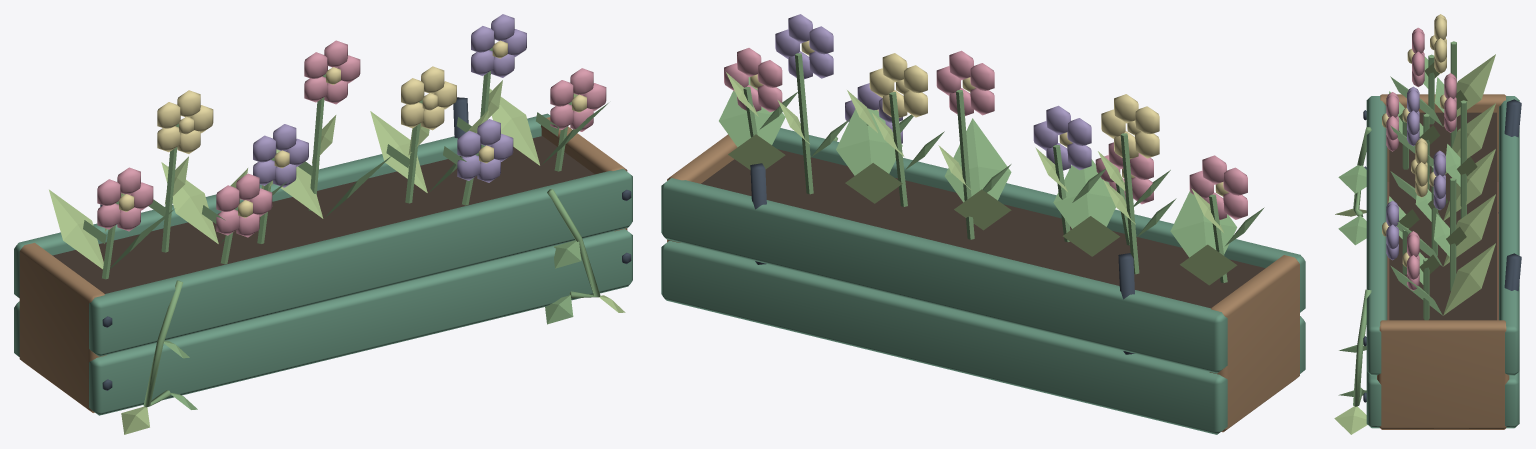
File: window_flowers.glb
3 views of the same model, side by side, from view 1: azimuth 30°, elevation 25°; view 2: azimuth 150°, elevation 25°; view 3: azimuth 270°, elevation 25° (orthographic). The views are drawn at different scales.
Parts seen in each view (by area): view 1: Painted front plank.001, Painted front plank, Garden soil, Planter end panel, Painted front plank.003, Full planter foliage.001, Planter end panel.001, Full planter foliage.003, Full planter foliage.009, Full planter foliage.007, Trailing ivy stem, Trailing ivy stem.001 (+7 smaller); view 2: Painted front plank.003, Painted front plank.002, Garden soil, Planter end panel, Painted front plank.001, Full planter foliage.002, Full planter foliage.004, Full planter foliage.006, Full planter foliage, Full planter foliage.008, Planter end panel.001, Full planter foliage.001 (+10 smaller); view 3: Planter end panel.001, Garden soil, Painted front plank.001, Painted front plank.003, Full planter foliage.009, Full planter foliage.007, Planter end panel, Full planter foliage.001, Full planter foliage.003, Full planter foliage.005, Painted front plank, Trailing ivy stem.001 (+48 smaller).
Part boxes in pixels (box(x1,y1,x2,y2)): Painted front plank.001: box(89, 169, 632, 356); Painted front plank: box(89, 229, 632, 415); Garden soil: box(52, 136, 594, 293); Planter end panel: box(19, 242, 106, 412); Painted front plank.003: box(14, 113, 550, 298); Full planter foliage.001: box(49, 189, 103, 269); Planter end panel.001: box(541, 117, 627, 231); Full planter foliage.003: box(161, 162, 218, 243); Full planter foliage.009: box(482, 83, 539, 165); Full planter foliage.007: box(370, 111, 427, 192); Trailing ivy stem: box(143, 280, 183, 407); Trailing ivy stem.001: box(547, 189, 600, 298); Painted front plank.003: box(661, 178, 1227, 373); Painted front plank.002: box(661, 240, 1227, 434); Garden soil: box(701, 149, 1265, 308); Planter end panel: box(1209, 255, 1299, 432); Painted front plank.001: box(772, 128, 1305, 312); Full planter foliage.002: box(1053, 159, 1115, 228); Full planter foliage.004: box(944, 118, 1011, 202); Full planter foliage.006: box(836, 108, 902, 175); Full planter foliage: box(1170, 191, 1237, 257); Full planter foliage.008: box(719, 77, 785, 147); Planter end panel.001: box(667, 134, 737, 242); Full planter foliage.001: box(1180, 244, 1237, 285); Planter end panel.001: box(1377, 320, 1509, 429); Garden soil: box(1389, 112, 1496, 320); Painted front plank.001: box(1366, 96, 1387, 375); Painted front plank.003: box(1499, 96, 1519, 375); Full planter foliage.009: box(1443, 243, 1495, 315); Full planter foliage.007: box(1443, 194, 1495, 266); Planter end panel: box(1380, 94, 1505, 181); Full planter foliage.001: box(1443, 54, 1495, 126); Full planter foliage.003: box(1445, 103, 1495, 174); Full planter foliage.005: box(1443, 149, 1495, 220); Painted front plank: box(1366, 371, 1381, 428); Trailing ivy stem.001: box(1353, 289, 1371, 406).
Size of the model in its own units: 0.5923 by 0.3029 by 0.2.
